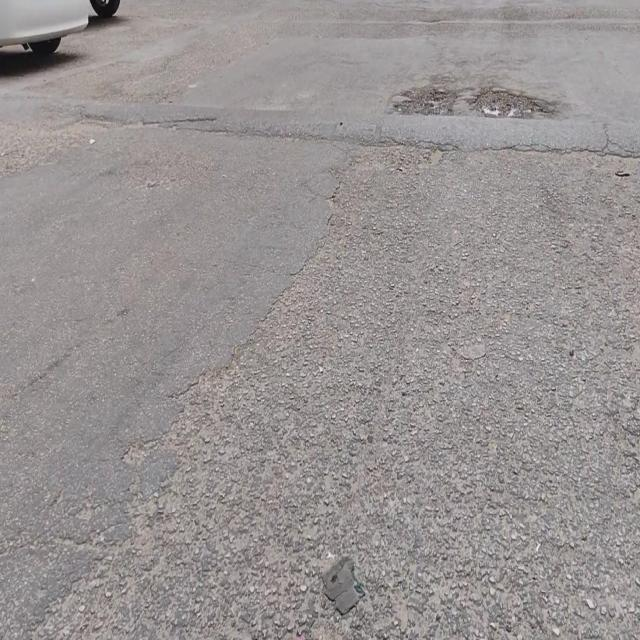Potholes: (475, 86, 547, 119), (396, 88, 454, 117)
